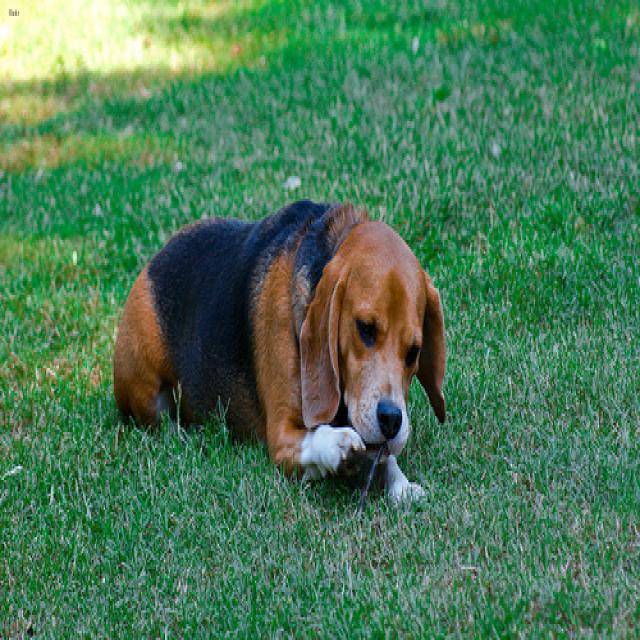dog-beagle: (106, 187, 456, 517)
